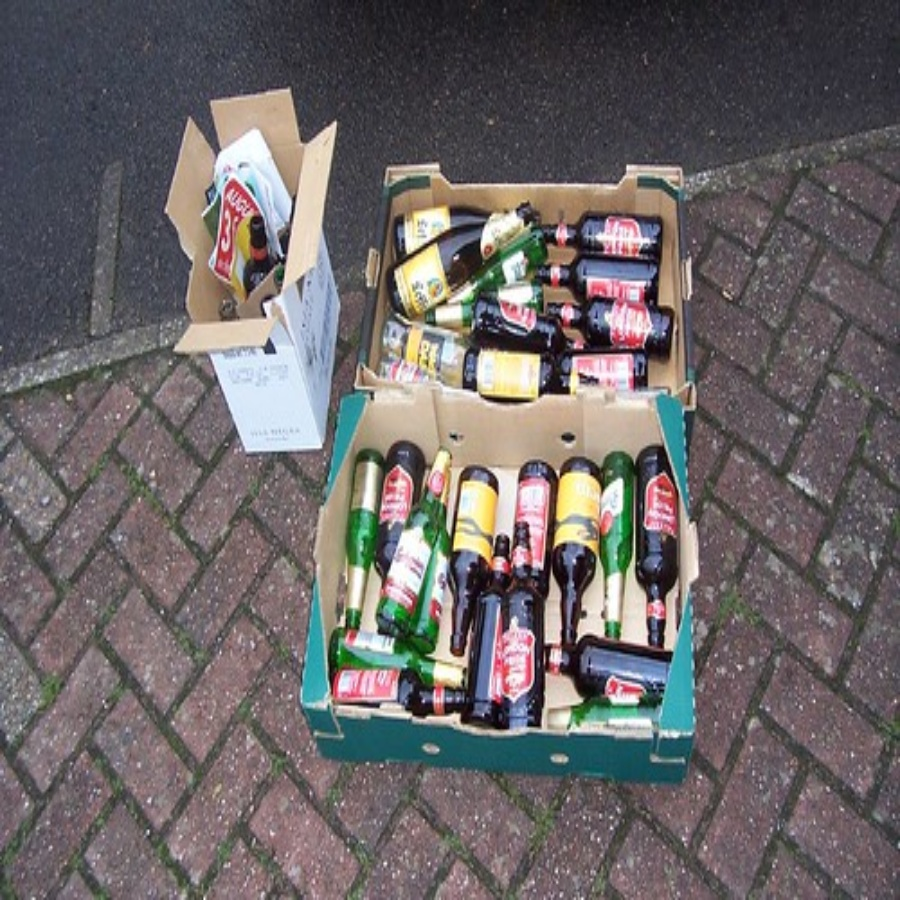beer: (371, 437, 444, 624), (398, 211, 528, 311), (448, 343, 602, 404), (453, 463, 497, 658), (550, 455, 590, 657)
